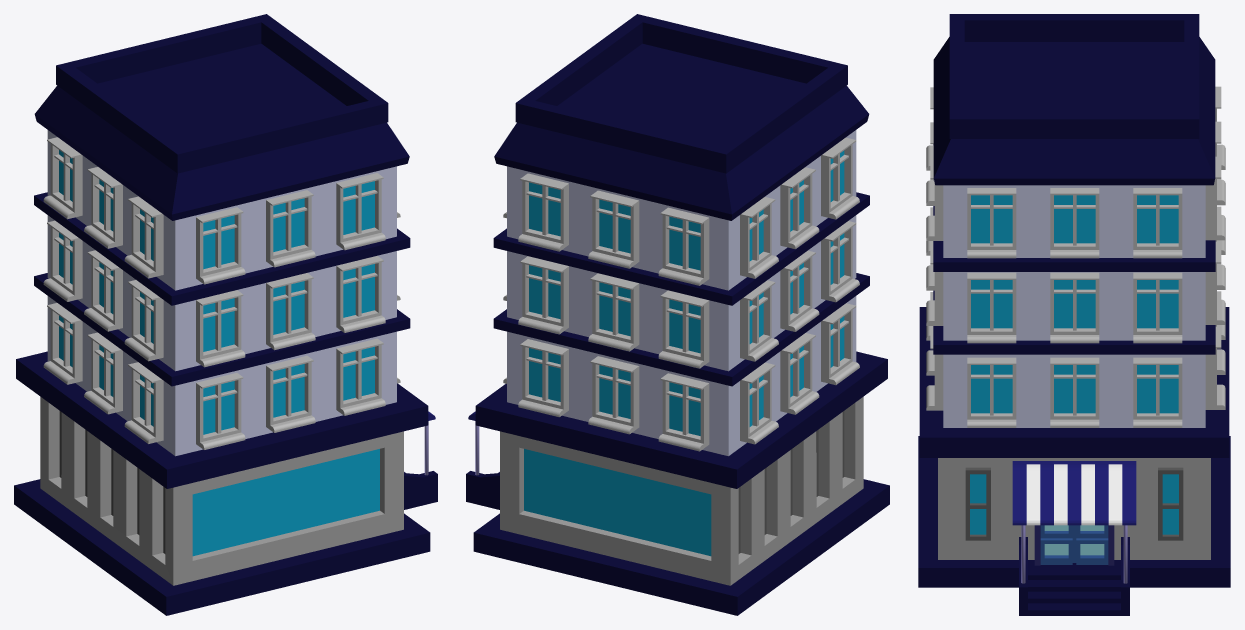
Rendered from building2.fbx.
3 renders of one model, left to right at view 1: azimuth 30°, elevation 25°; view 2: azimuth 150°, elevation 25°; view 3: azimuth 270°, elevation 25°, orthographic. The views are drawn at different scales.
Parts seen in each view (by area): view 1: Base2, Window4, Window3; view 2: Base2, Window2, Window3; view 3: Base2, Window1, Window2, Window4, Poles.
Boxes of the visible parts, left/top/right/bottom form: Base2: left=14, top=14, right=437, bottom=615; Window4: left=196, top=173, right=385, bottom=449; Window3: left=43, top=137, right=163, bottom=443; Base2: left=466, top=14, right=889, bottom=615; Window2: left=518, top=173, right=709, bottom=451; Window3: left=740, top=137, right=859, bottom=444; Base2: left=918, top=14, right=1230, bottom=615; Window1: left=967, top=188, right=1182, bottom=427; Window2: left=1205, top=86, right=1225, bottom=409; Window4: left=926, top=87, right=943, bottom=410; Poles: left=1021, top=525, right=1127, bottom=583.
Bounding box in the file's own units: 371 × 491 × 306.
